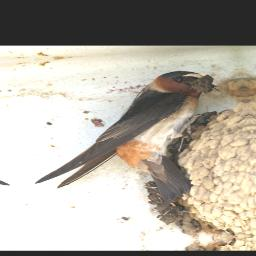Swallow: (13, 68, 233, 192)
